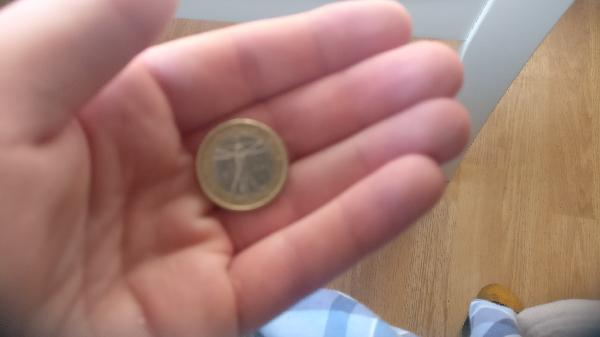One Euro: (196, 117, 288, 213)
